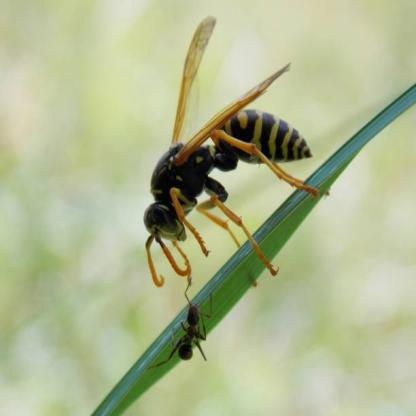sawfly: (140, 13, 327, 299)
